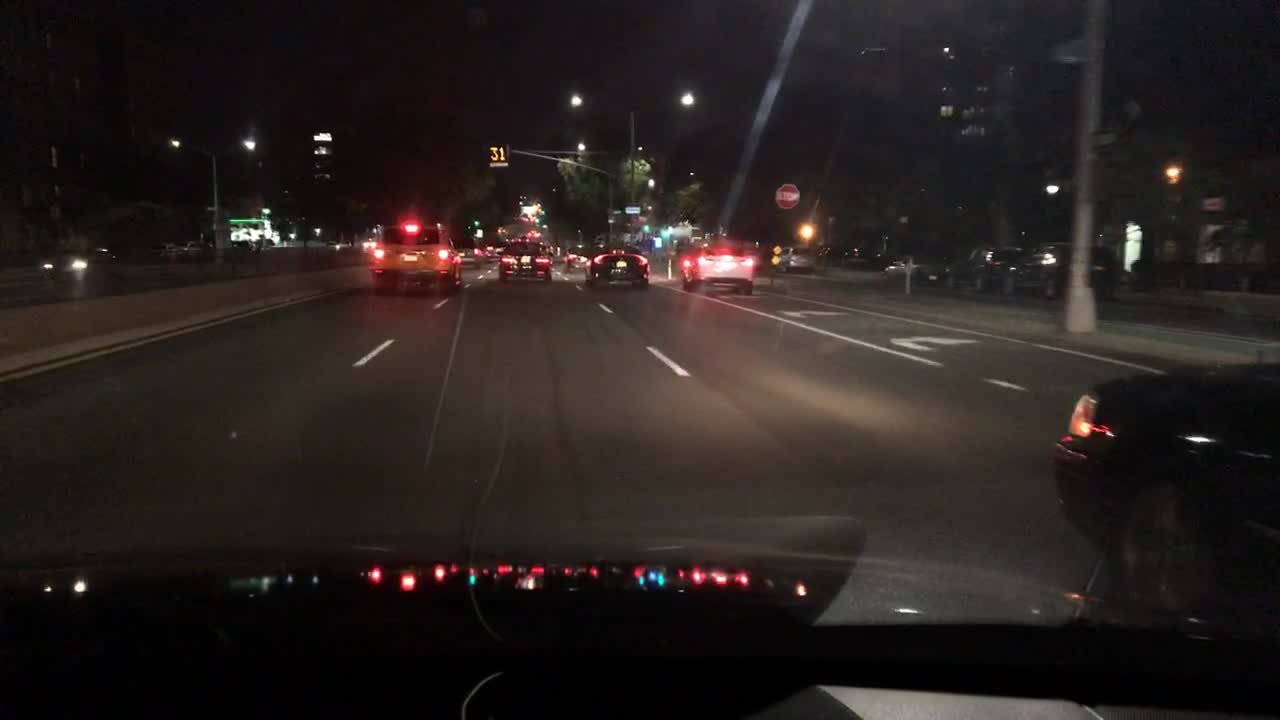car: (1047, 363, 1279, 586), (364, 212, 465, 295), (1024, 239, 1125, 300), (676, 233, 764, 292), (963, 242, 1032, 293), (587, 237, 653, 290), (497, 237, 556, 283), (43, 243, 121, 271), (785, 240, 827, 273), (836, 244, 889, 266), (229, 217, 275, 241), (885, 255, 934, 277), (563, 241, 592, 271), (170, 238, 210, 255), (325, 237, 352, 250), (483, 245, 496, 260)
traffic light: (640, 218, 652, 232)
traffic sign: (773, 183, 800, 210), (487, 142, 509, 169), (772, 243, 786, 257), (626, 205, 642, 213), (655, 235, 663, 250)
